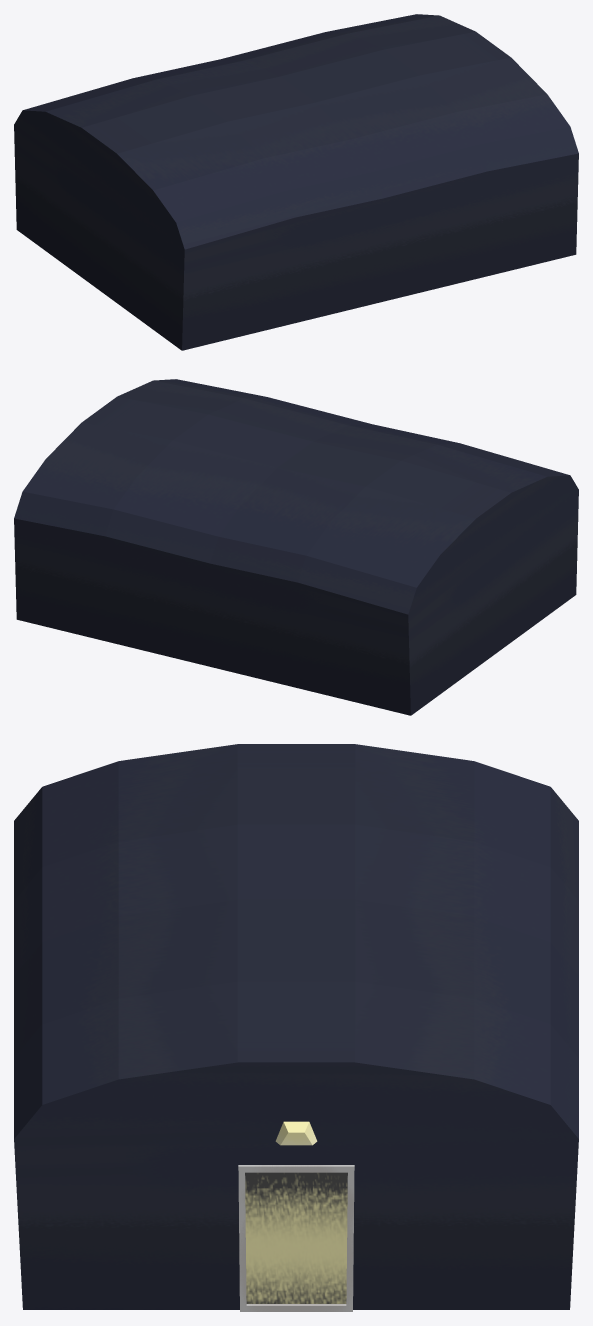
Rendered from warehouse-textured.fbx.
3 renders of one model, top to bottom at view 1: azimuth 30°, elevation 25°; view 2: azimuth 150°, elevation 25°; view 3: azimuth 270°, elevation 25°, orthographic. The views are drawn at different scales.
Visible parts, largest first — view 1: warehouse; view 2: warehouse; view 3: warehouse.
Part boxes in pixels (box(x1,y1,x2,y2)): warehouse: box(14, 14, 578, 350); warehouse: box(14, 379, 578, 715); warehouse: box(14, 744, 578, 1311).
Size of the model in its own units: 810 by 300 by 600.
